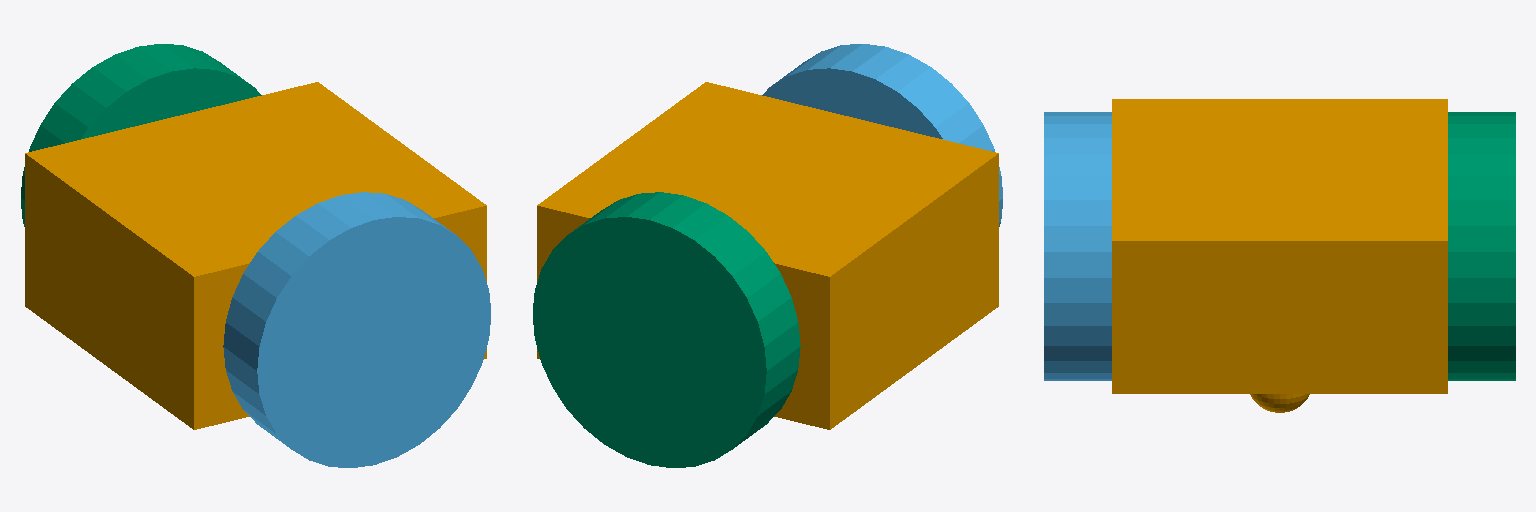
URDF robot description (robo):
<?xml version='1.0'?>
<robot name="robo">

 
  <link name="base_link">
    <inertial>
      <mass value="5"/>
      <inertia ixx="0.13" ixy="0.0" ixz="0.0"
               iyy="0.21" iyz="0.0" izz="0.13"/>
    </inertial>
  <visual>
      <origin xyz="0 0 0" rpy="0 0 0" />
      <geometry>
        <box size="0.5 0.5 0.25"/>
      </geometry>
    </visual>
   <collision>
      <origin xyz="0 0 0" rpy="0 0 0" />
      <geometry>
        <box size="0.5 0.5 0.25"/>
      </geometry>
   </collision>
    
    <!--caster wheel -->
    
     <inertial>
      <mass value="0.5"/>
      <inertia ixx="0.0001" ixy="0.0" ixz="0.0"
               iyy="0.0001" iyz="0.0" izz="0.0001"/>
    </inertial>
    
    <visual name="caster">
      <origin xyz="0.2 0 -0.125" rpy="0 0 0" />
      <geometry>
        <sphere radius="0.05" />
      </geometry>
    </visual>
    
     <collision>
      <origin xyz="0.2 0 -0.125" rpy="0 0 0" />
      <geometry>
        <sphere radius="0.05" />
      </geometry>
    </collision>
        
  </link>

  <!-- Right Wheel -->
  <link name="right_wheel">
     <inertial>
      <mass value="0.5"/>
      <inertia ixx="0.01"  ixy="0.0" ixz="0.0"
               iyy="0.005" iyz="0.0" izz="0.005"/>
    </inertial>
  ...
    <visual>
      <origin xyz="0 0 0" rpy="1.570795 0 0" />
      <geometry>
        <cylinder length="0.1" radius="0.2" />
      </geometry>
    </visual>
    
     <collision>
      <origin xyz="0 0 0" rpy="1.570795 0 0" />
      <geometry>
        <cylinder length="0.1" radius="0.2" />
      </geometry>
    </collision>
  </link>
  
  <joint name="joint_right_wheel" type="continuous">
    <parent link="base_link"/>
    <child link="right_wheel"/>
    <origin xyz="0 -0.30 0" rpy="0 0 0" />
    <axis xyz="0 1 0" />
  </joint>

  <!-- Left Wheel -->
  <link name="left_wheel">
  
    <inertial>
      <mass value="0.5"/>
      <inertia ixx="0.01" ixy="0.0" ixz="0.0"
               iyy="0.005" iyz="0.0" izz="0.005"/>
    </inertial>
    <visual>
      <origin xyz="0 0 0" rpy="1.570795 0 0" />
      <geometry>
        <cylinder length="0.1" radius="0.2" />
      </geometry>
    </visual>
    
    <collision>
      <origin xyz="0 0 0" rpy="1.570795 0 0" />
      <geometry>
        <cylinder length="0.1" radius="0.2" />
      </geometry>
    </collision>
  </link>

  <joint name="joint_left_wheel" type="continuous">
    <parent link="base_link"/>
    <child link="left_wheel"/>
    <origin xyz="0 0.30 0" rpy="0 0 0" />
    <axis xyz="0 1 0" />
  </joint>

</robot>

--- What the picture shows (computed from the rendered views, not written in the file) ---
The picture shows the robot from 3 angles, left to right: view 1: azimuth 30°, elevation 25°; view 2: azimuth 150°, elevation 25°; view 3: azimuth 270°, elevation 25°; orthographic projection.
Model robo with 3 links and 2 joints (2 continuous), rooted at base_link, posed all joints at 0.
Visible links, largest first — view 1: base_link, right_wheel, left_wheel; view 2: base_link, left_wheel, right_wheel; view 3: base_link, right_wheel, left_wheel.
Link boxes in pixels (x1,y1,x2,y2): base_link: (25,82,486,429); right_wheel: (223,192,490,467); left_wheel: (21,44,261,226); base_link: (537,82,998,429); left_wheel: (533,192,800,467); right_wheel: (762,44,1002,226); base_link: (1112,99,1447,412); right_wheel: (1044,112,1111,380); left_wheel: (1448,112,1515,380).
Size in the robot's own frame: 0.5 by 0.7 by 0.4 metres.
Geometry: primitives only (box / cylinder / sphere), no mesh files.